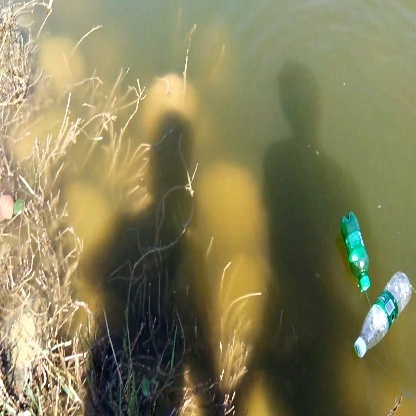bottle: (354, 273, 416, 362), (338, 210, 375, 289)
